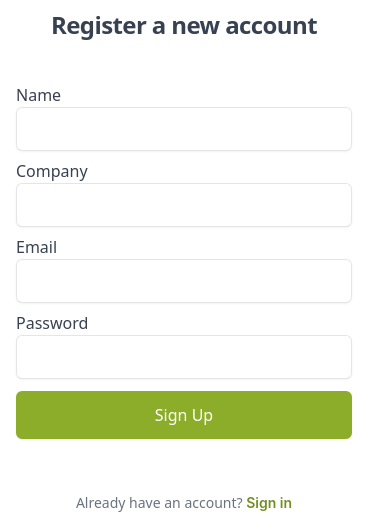
Test: Signup Component › displays error message on signup failure with unknown error
Type "John Doe" into the field labelled "Name" at (184, 129), box [16, 107, 352, 151]
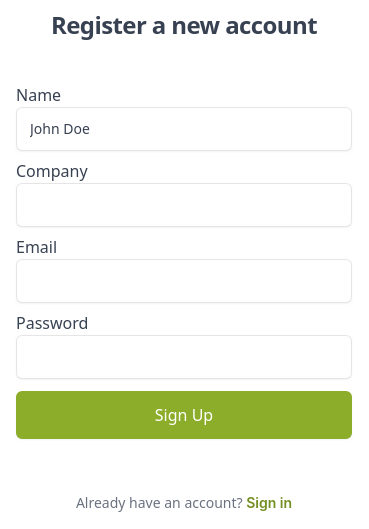
Type "johndoe" into the field labelled "Company" at (184, 205), box [16, 183, 352, 227]
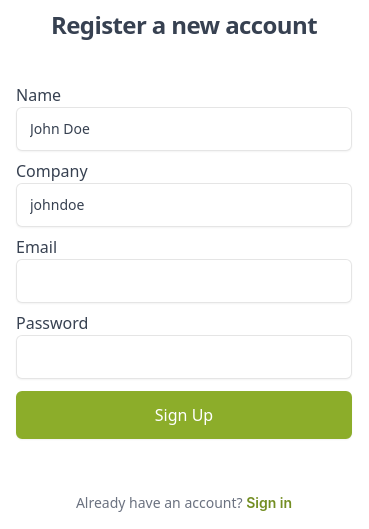
Type "john@example.com" into the field labelled "Email" at (184, 281), box [16, 259, 352, 303]
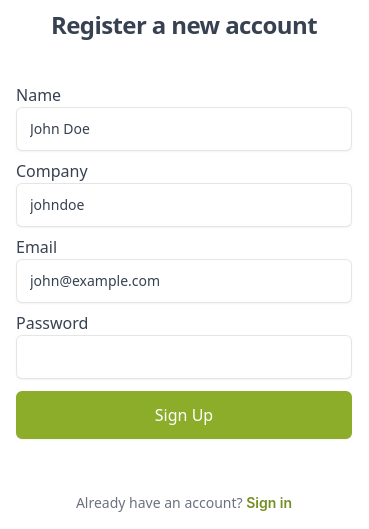
Type "password123" into the password field labelled "Password" at (184, 357), box [16, 335, 352, 379]
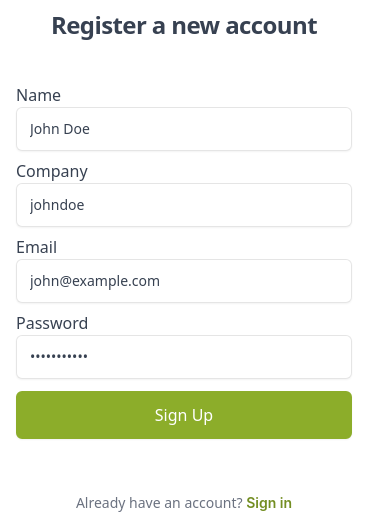
Click the button "Sign Up" at (184, 415), box [16, 391, 352, 439]
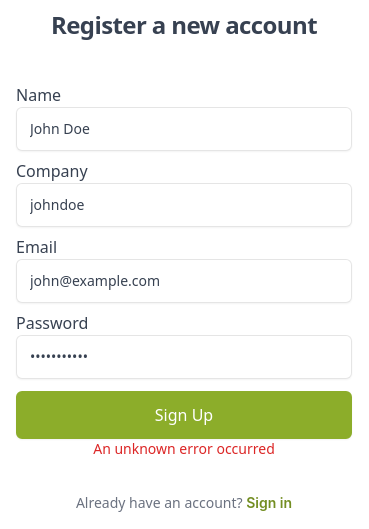
Now the text "An unknown error occurred" is shown, box [93, 439, 275, 458]
